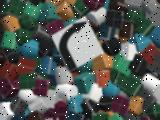Right: (51, 15, 104, 72)
